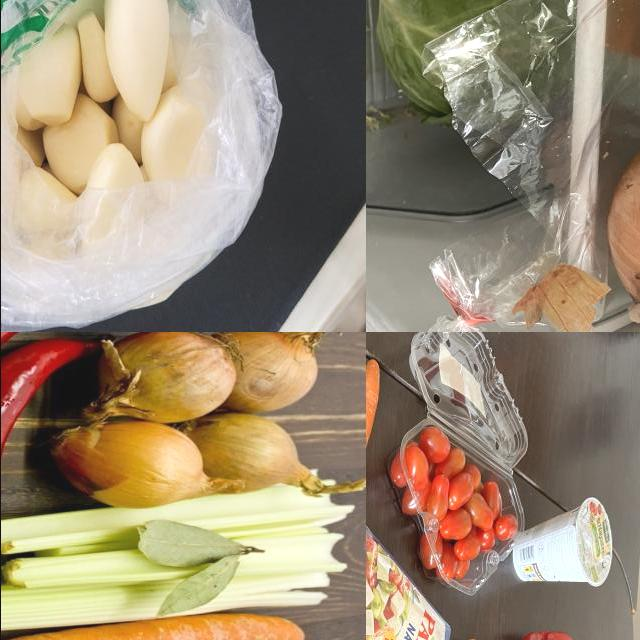cabbage: (366, 1, 587, 134)
carrot: (1, 617, 307, 640), (366, 345, 389, 541)
garlic: (17, 1, 215, 199)
onion: (109, 333, 220, 414), (78, 431, 211, 494), (234, 333, 320, 403), (215, 427, 309, 491)
tomato: (442, 477, 510, 552)
